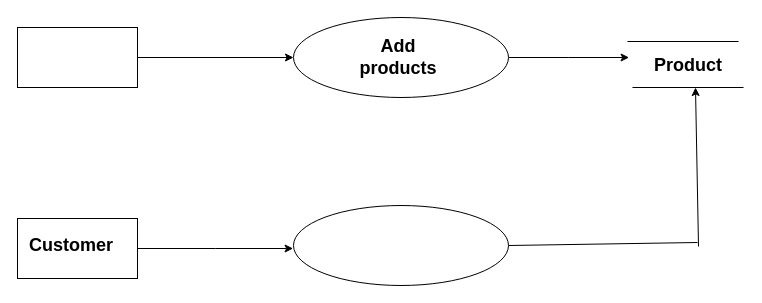
The diagram is 762 pixels wide and 303 high, and some of its shapes have lost their labels. Here are the shapes that lost their labels. From the top down, the centre of each, then its label:
At [77,57]: "Shopkeeper".
At [400,245]: "View Products".
